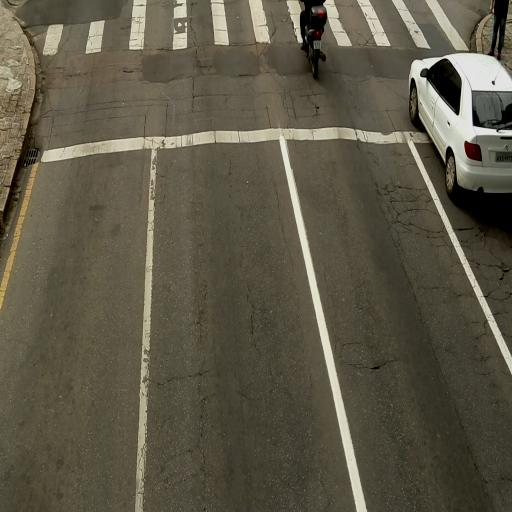car: (407, 51, 510, 201)
motorcycle: (303, 4, 328, 80)
